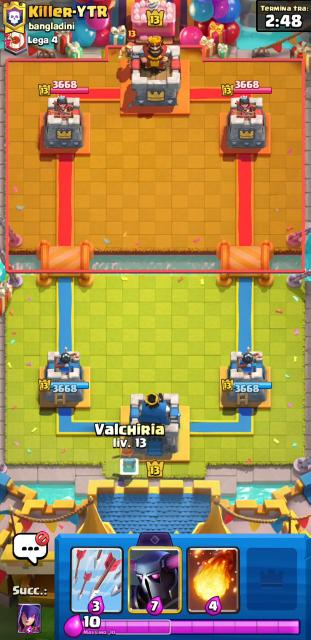enemy_ranged: (118, 42, 136, 67)
